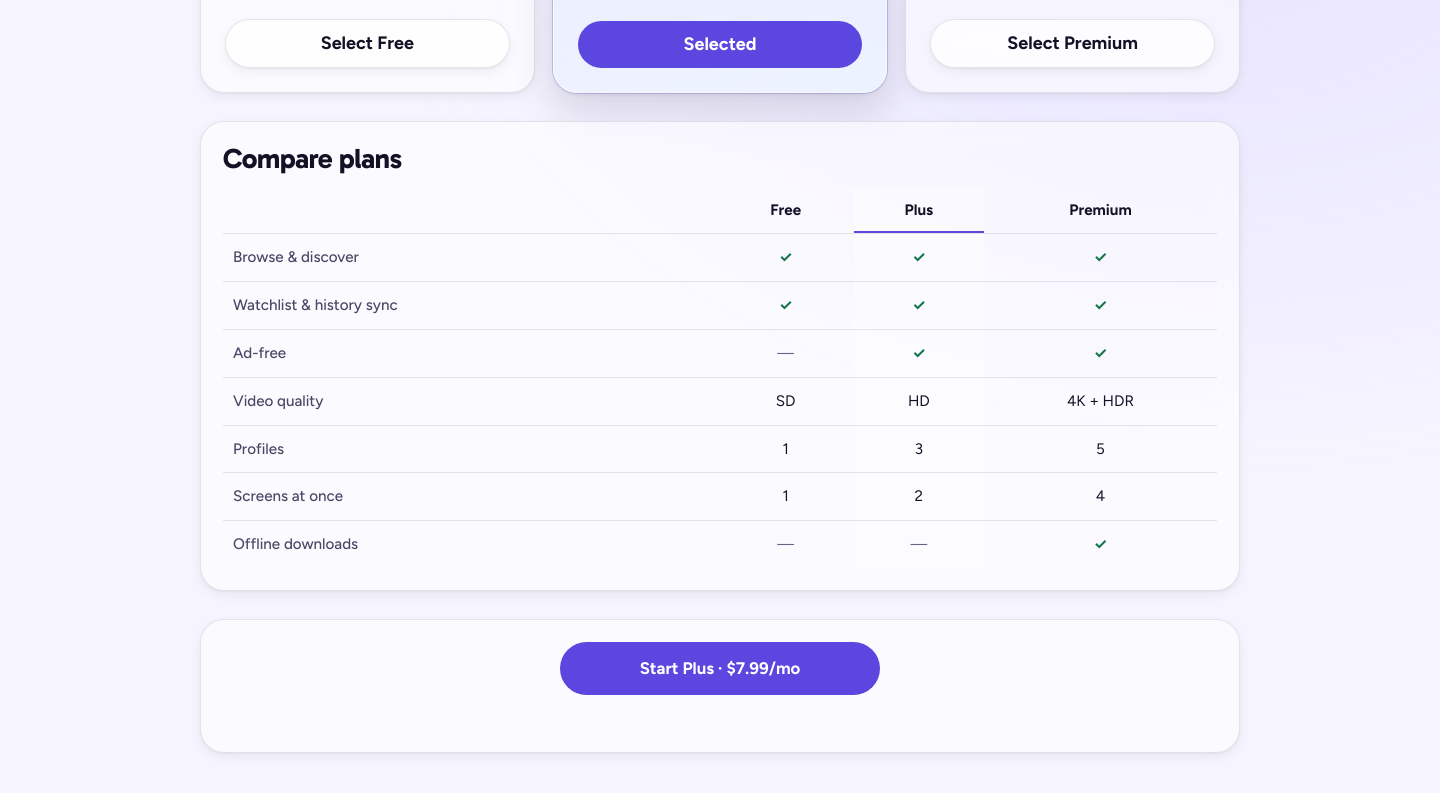
Test: PlansPage › bills a local guest when nobody is signed in
(page scrolled)
Click the button "Start Plus · $7.99/mo" at (720, 669), box [560,642,880,695]
(page scrolled)
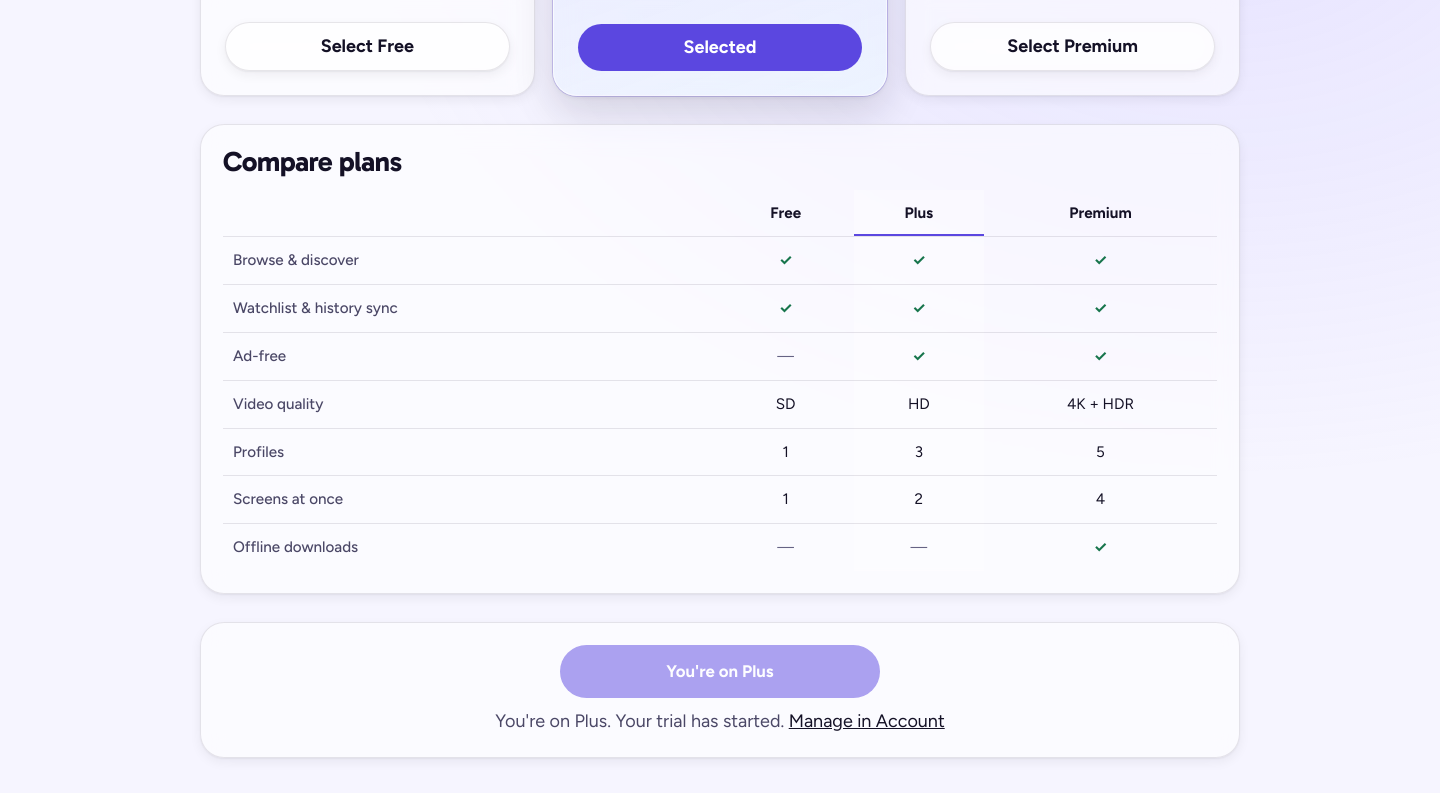
Expected: the text "You're on Plus. Your trial has started. Manage in Account" is shown, [495,708,945,735]
